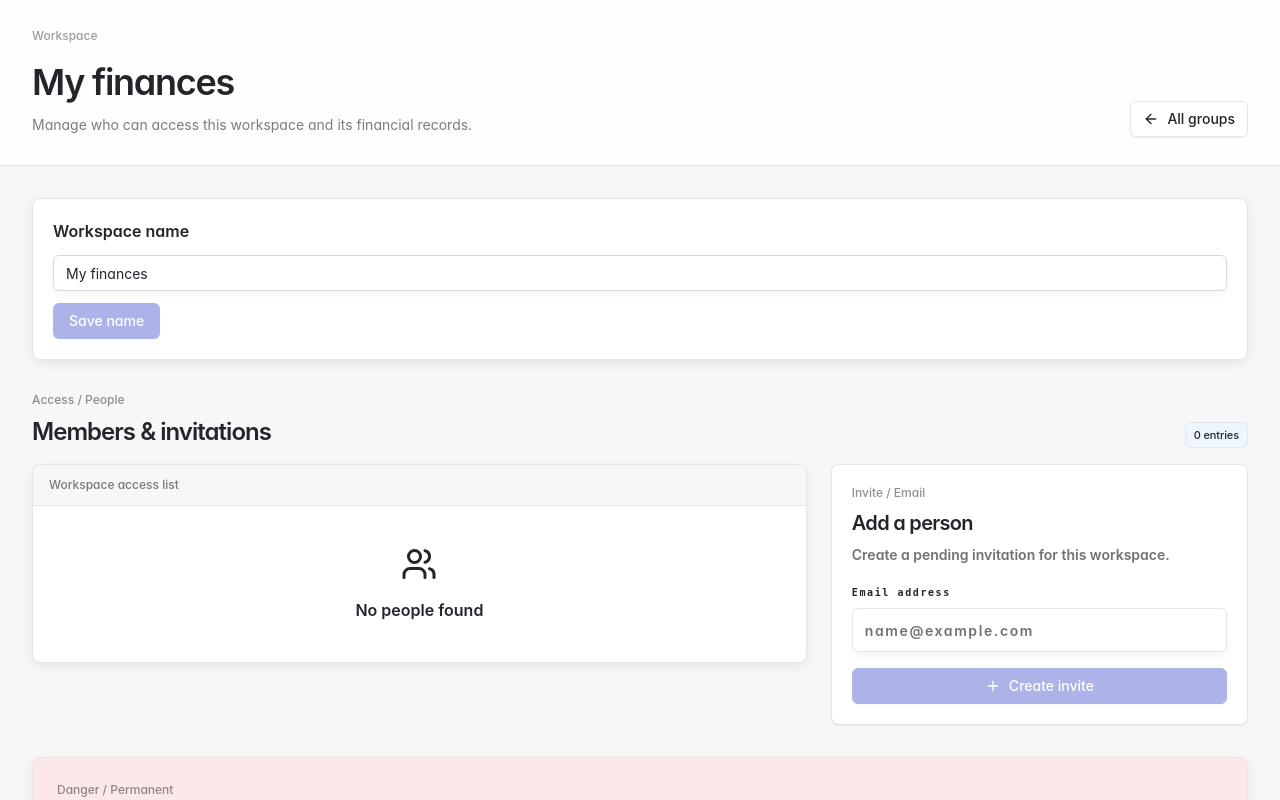
Test case: rejects blank names and preserves failed edits for retry
Clear the field labelled "Workspace name" at [640, 273], box [53, 255, 1227, 291]
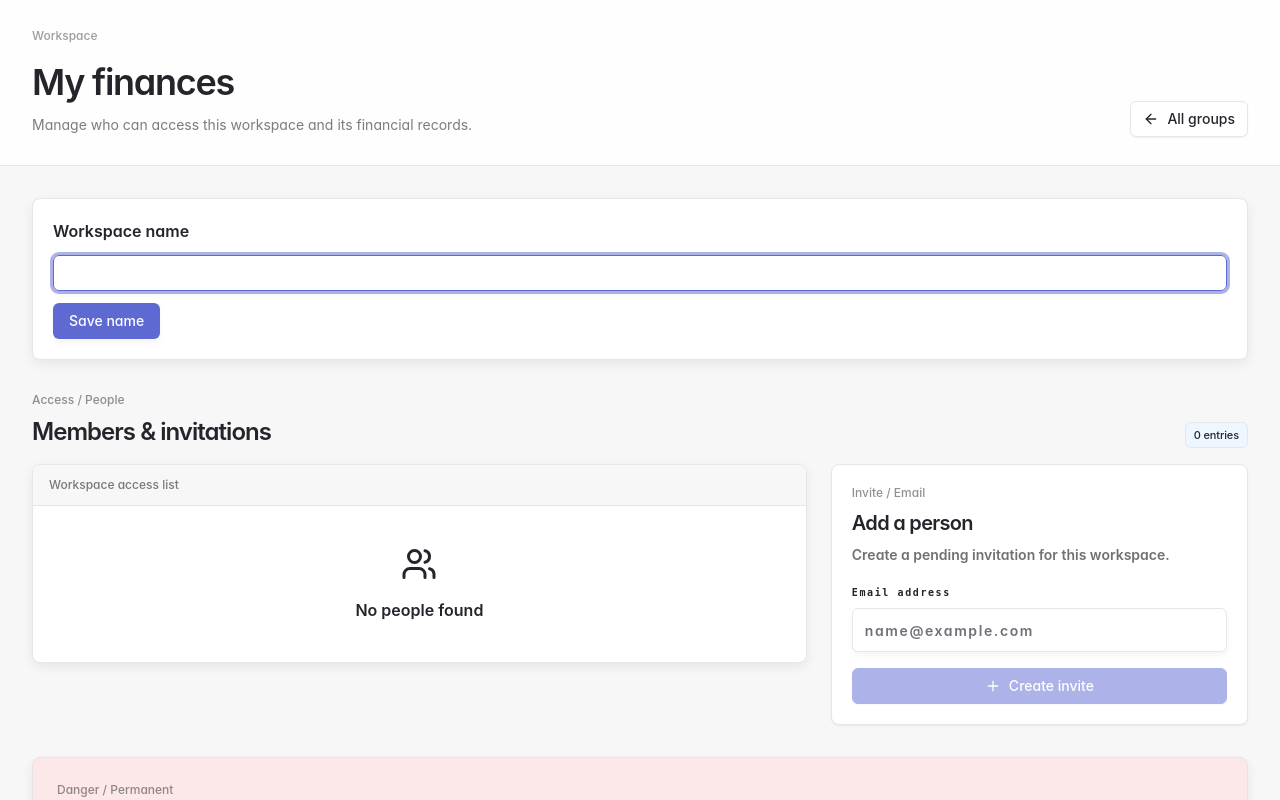
Click the button "Save name" at [107, 321], box [53, 303, 160, 339]
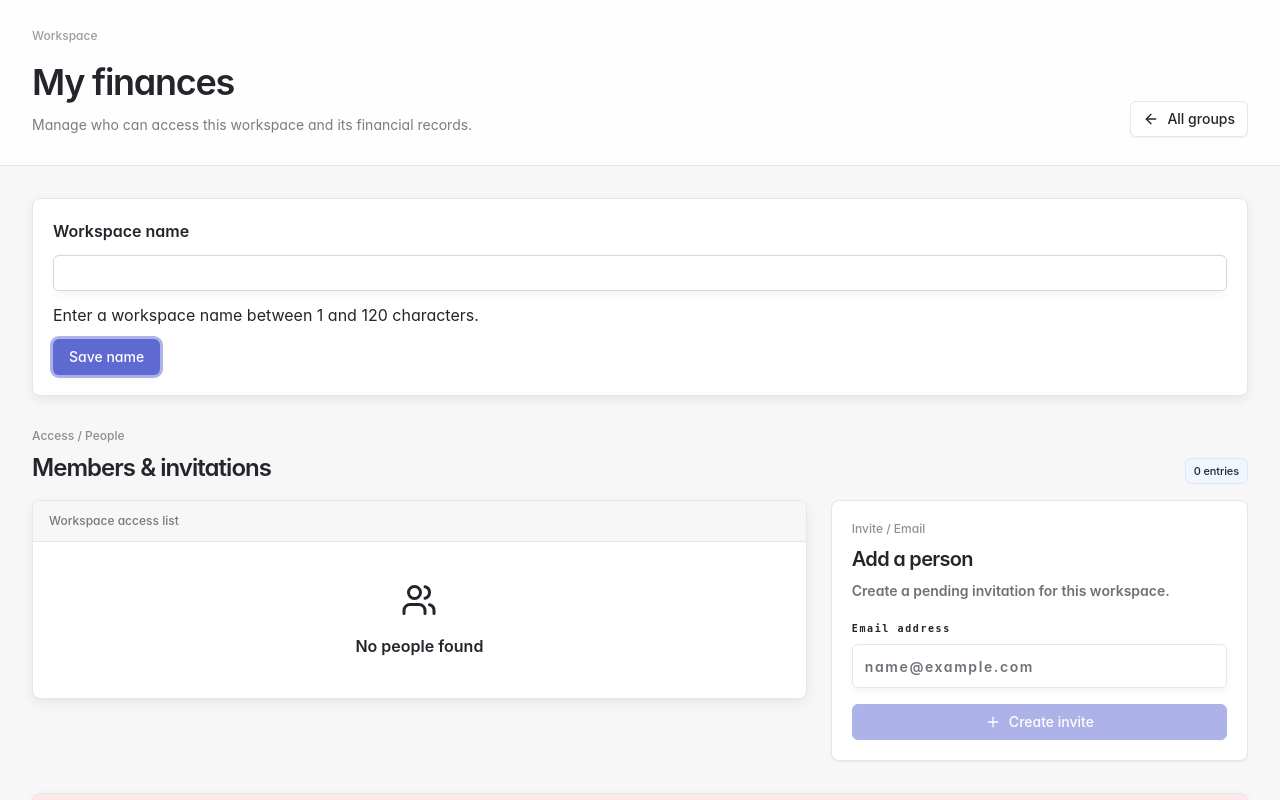
Expected: the message shows "between 1 and 120", [53, 305, 479, 325]
Type "Household" into the field labelled "Workspace name" at [640, 273], box [53, 255, 1227, 291]
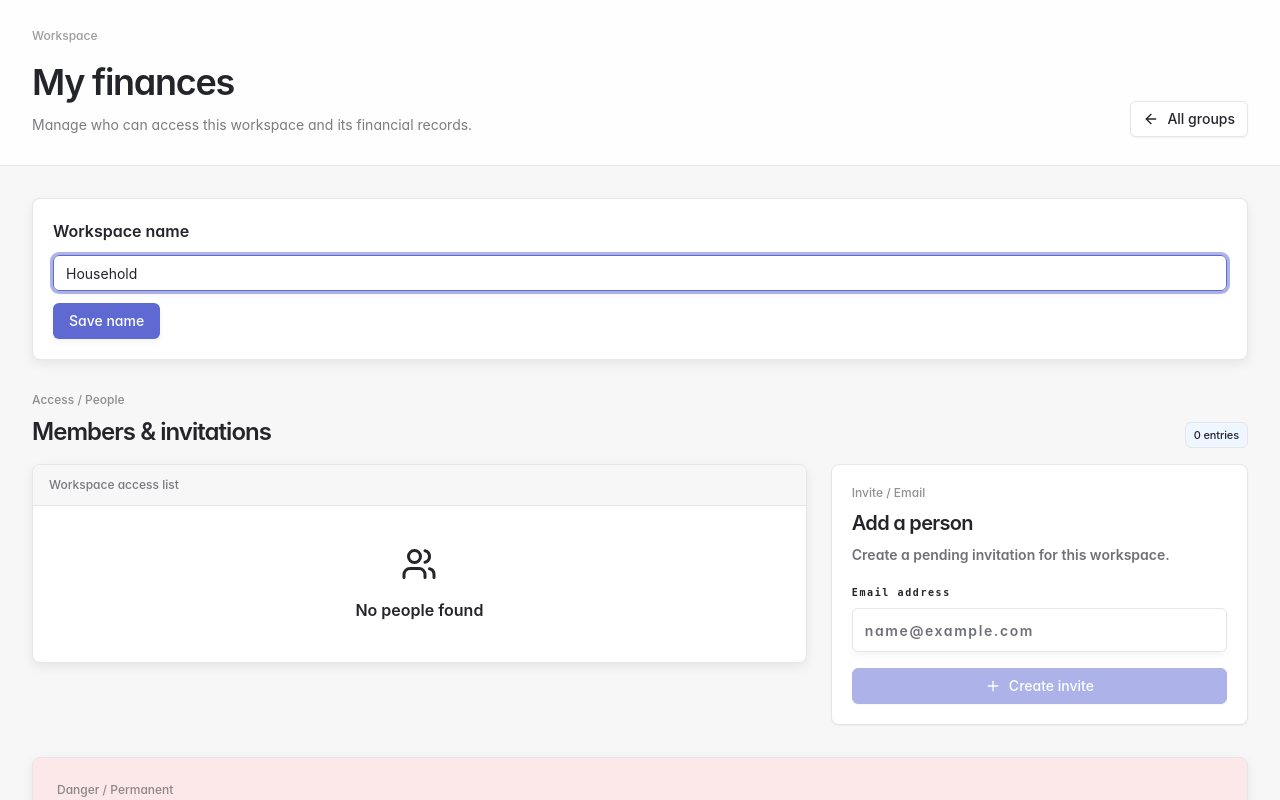
Click the button "Save name" at [107, 321], box [53, 303, 160, 339]
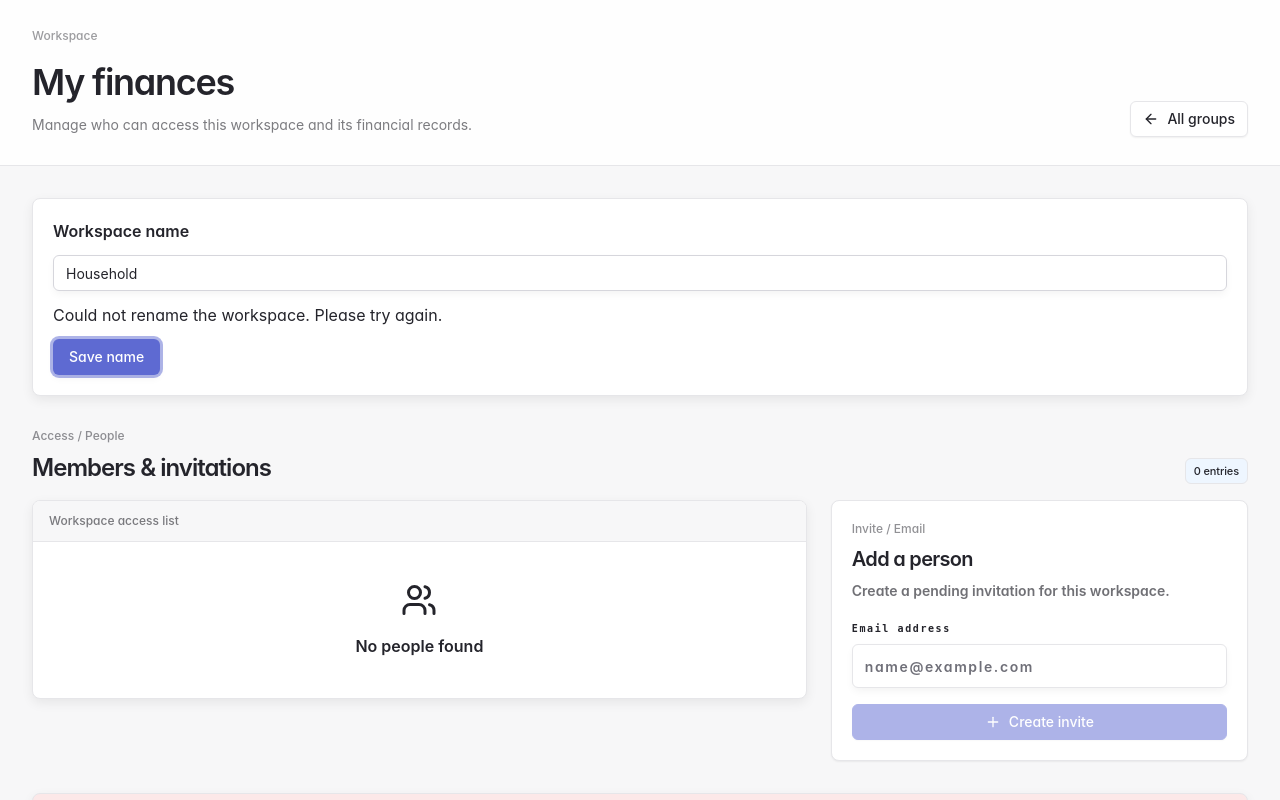
Expected: the message shows "Please try again", [53, 305, 442, 325]
